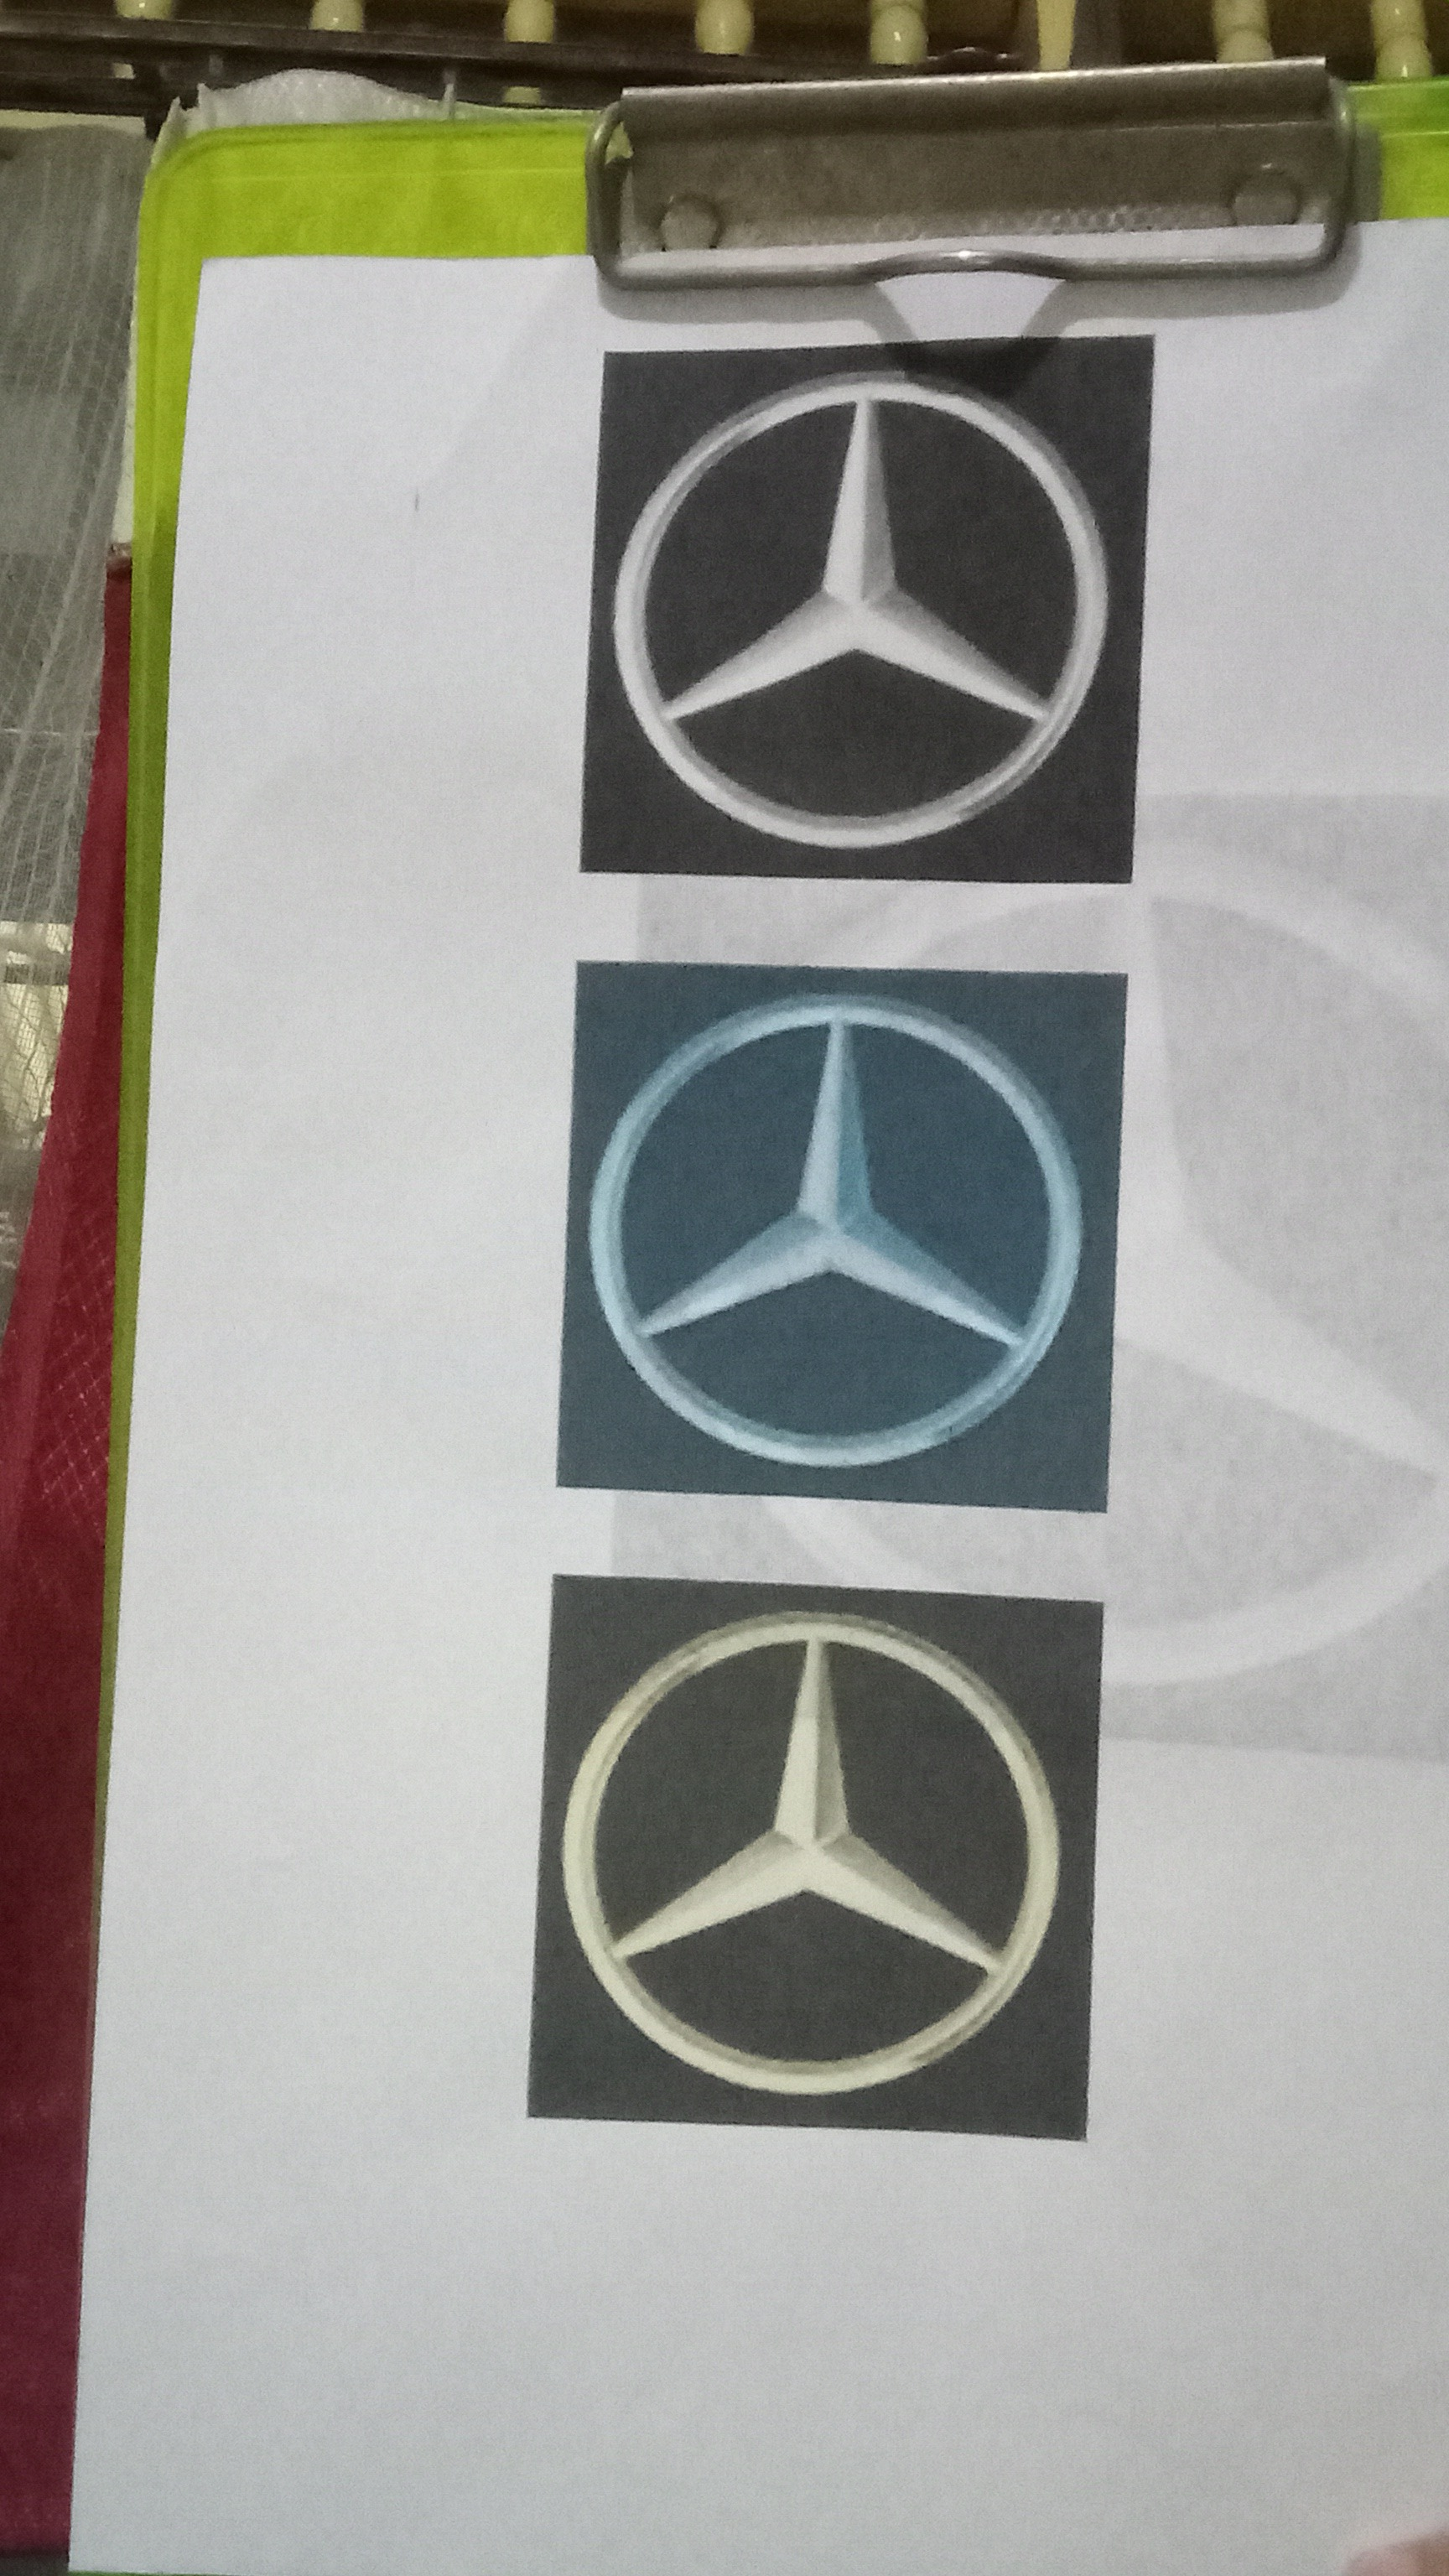Mercedes: (591, 350, 1152, 909), (548, 1594, 1077, 2120), (582, 977, 1099, 1486)
